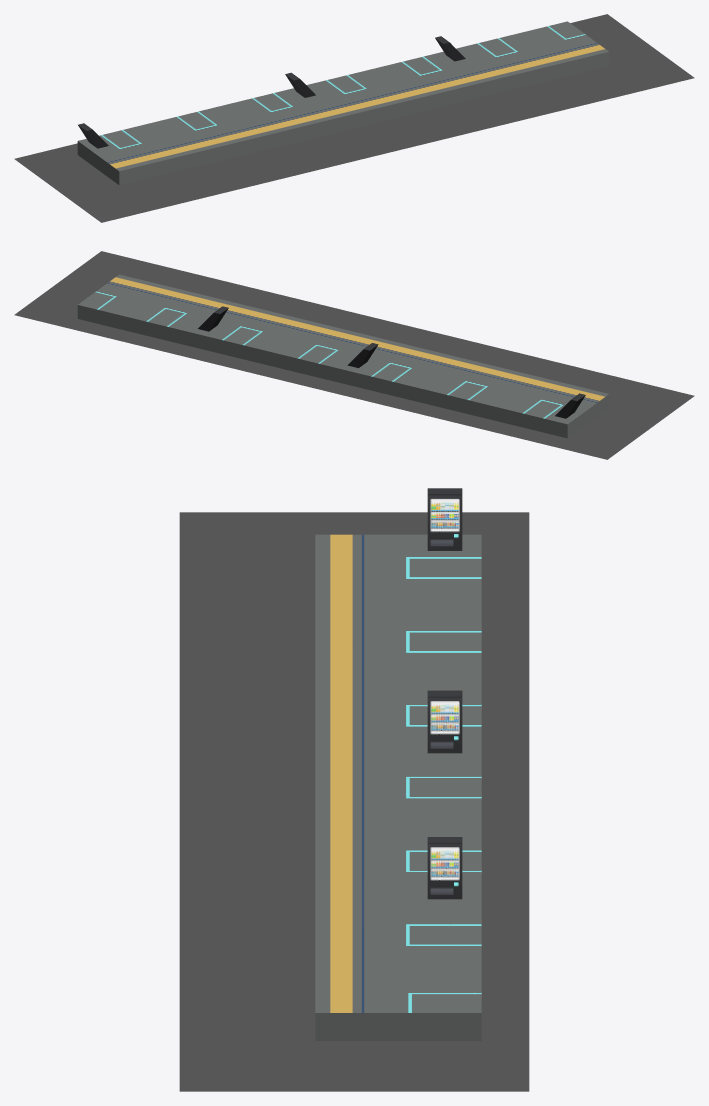
File: steage_kinmirai_001 (1).fbx
3 renders of one model, top to bottom at view 1: azimuth 30°, elevation 25°; view 2: azimuth 150°, elevation 25°; view 3: azimuth 270°, elevation 25°, orthographic. The views are drawn at different scales.
Visible parts, largest first — view 1: pCube2, pPlane1, pCube3, pCube5; view 2: pCube2, pPlane1; view 3: pPlane1, pCube2, pCube3, pCube5, pCube4.
Part boxes in pixels (box(x1,y1,x2,y2)): pCube2: box(77, 21, 609, 185); pPlane1: box(14, 14, 694, 222); pCube3: box(285, 72, 315, 97); pCube5: box(78, 123, 108, 148); pCube2: box(77, 274, 609, 438); pPlane1: box(14, 251, 694, 459); pPlane1: box(179, 512, 529, 1091); pCube2: box(315, 534, 481, 1040); pCube3: box(427, 690, 462, 753); pCube5: box(427, 488, 462, 550); pCube4: box(427, 837, 462, 899).
Bounding box in the file's own units: 4845 × 272 × 1237.
